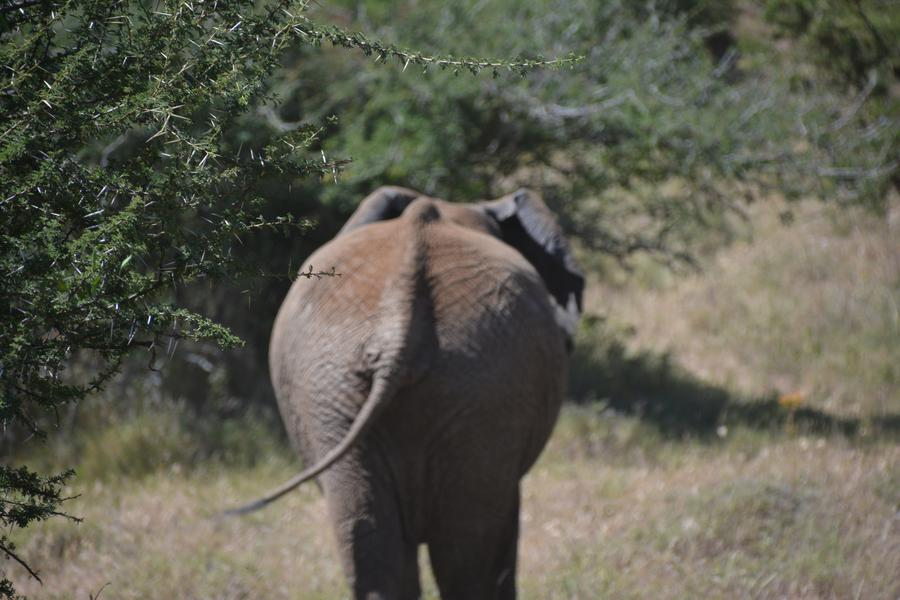elephant: (279, 181, 573, 566)
